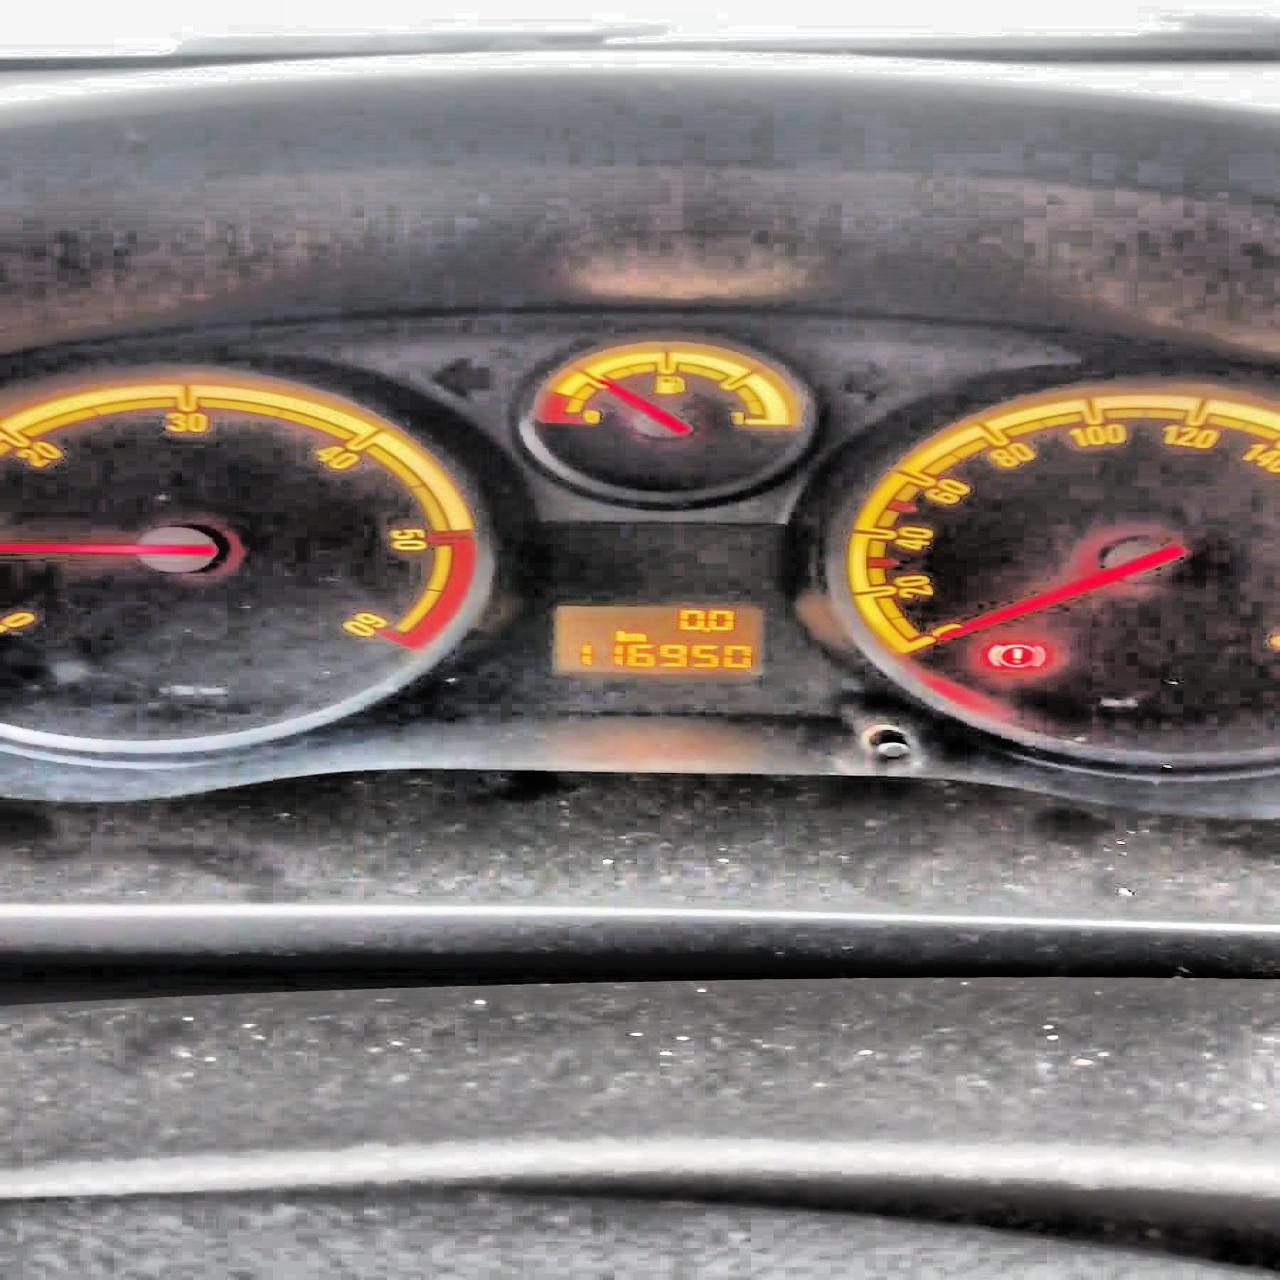-: (700, 626, 712, 632)
0: (722, 644, 750, 667), (707, 608, 734, 631), (679, 608, 706, 629)
1: (579, 644, 592, 665), (611, 644, 622, 666)
5: (688, 644, 720, 668)
6: (626, 644, 655, 667)
9: (658, 644, 687, 667)
X: (626, 633, 646, 641), (613, 629, 628, 640)
odometer: (547, 602, 767, 676)
